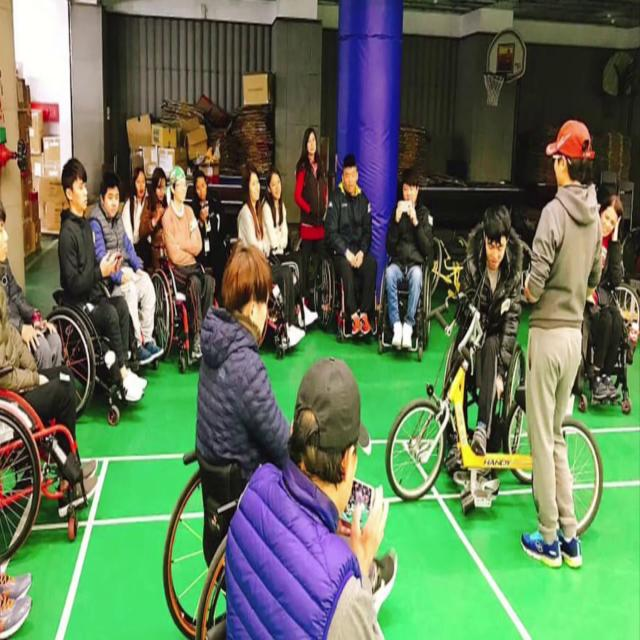wheelchairs: (157, 401, 337, 640), (0, 347, 102, 582), (445, 272, 536, 465), (560, 229, 640, 441), (37, 242, 123, 439), (146, 225, 222, 393), (365, 220, 442, 374), (324, 210, 386, 354)
